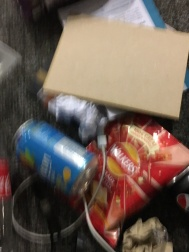can_blue: (7, 111, 99, 204)
